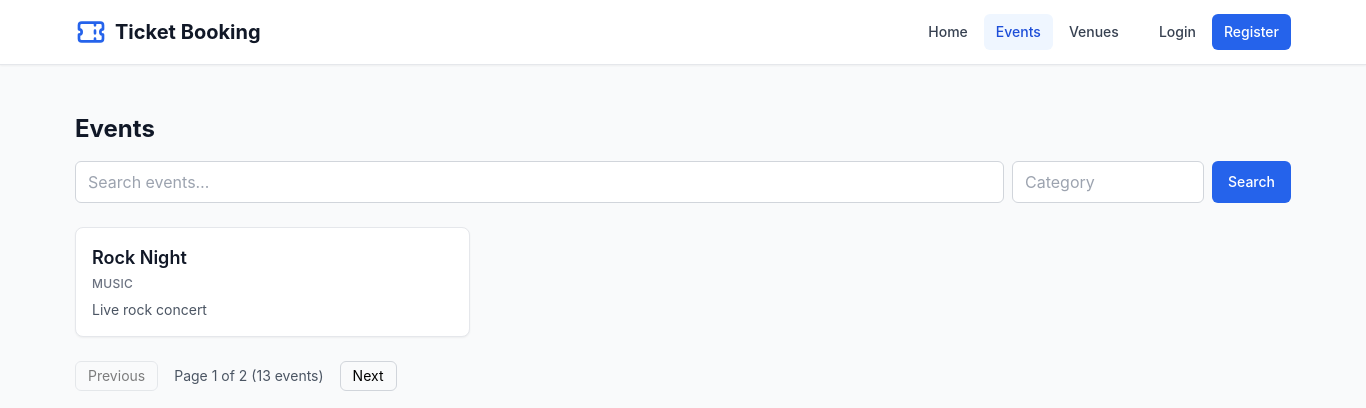
events pages › renders the catalogue, searches, and paginates
Check: the link "Rock Night" is shown, box 92,247 -> 187,268
Check: the text "Page 1 of 2 (13 events)" is shown, box 174,366 -> 324,386
Step 1. Type "rock" into the search field labelled "Search events" → [540, 182], box 75,161 -> 1004,203
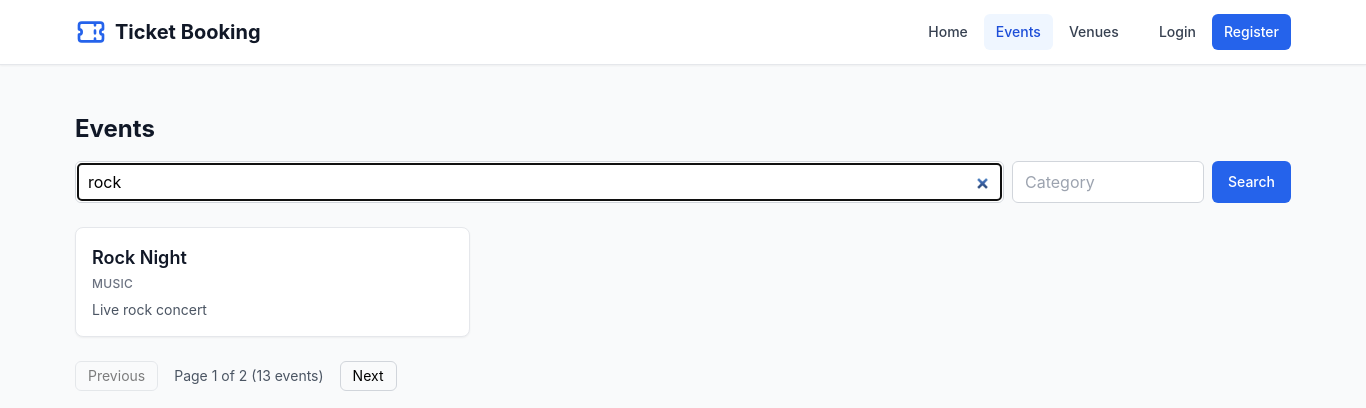
Step 2. Click the button "Search" → [1252, 182], box 1212,161 -> 1291,203
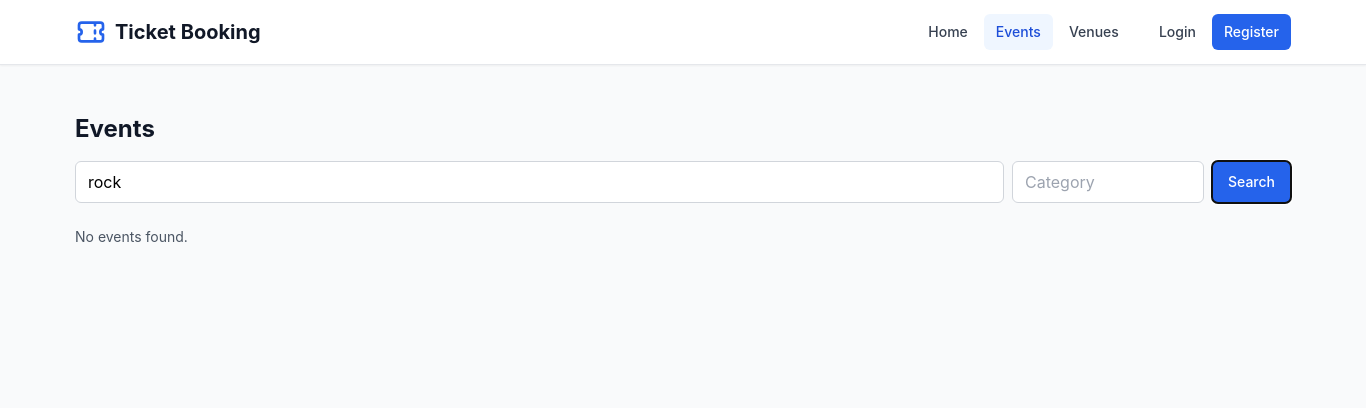
Check: the text "No events found." is shown, box 75,228 -> 188,245
